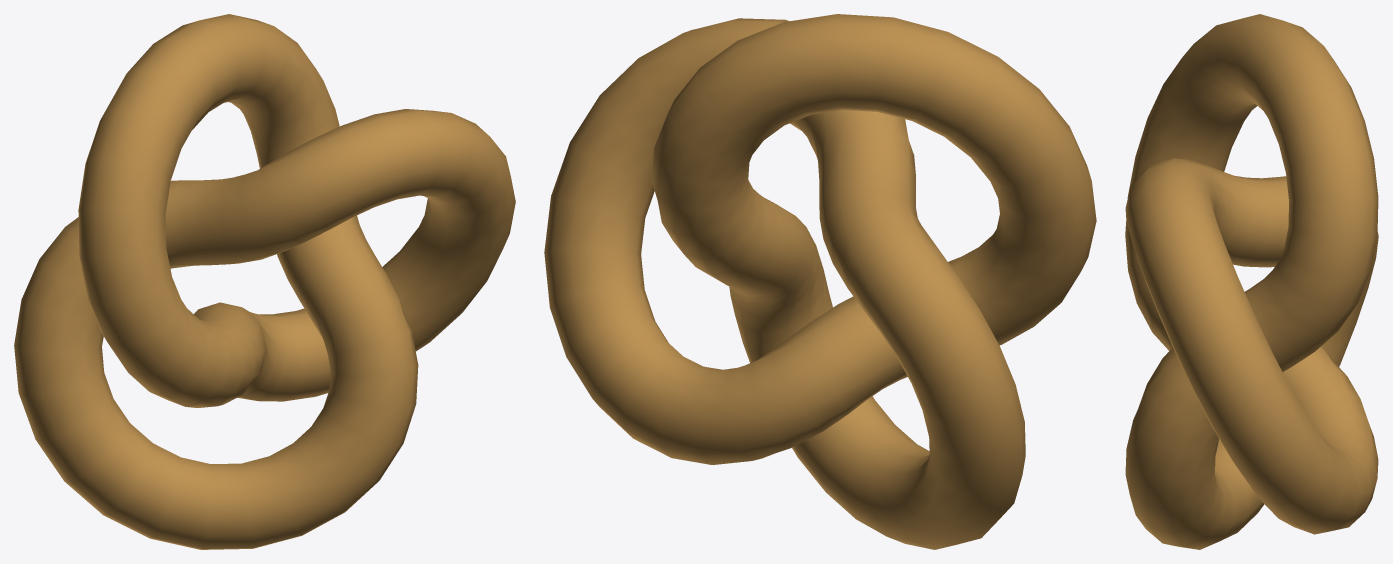
The model's file is ribbon-sculpture.glb.
3 renders of one model, left to right at view 1: azimuth 30°, elevation 25°; view 2: azimuth 150°, elevation 25°; view 3: azimuth 270°, elevation 25°, orthographic. The views are drawn at different scales.
Size of the model in its own units: 1.42 by 1.47 by 0.6799.
